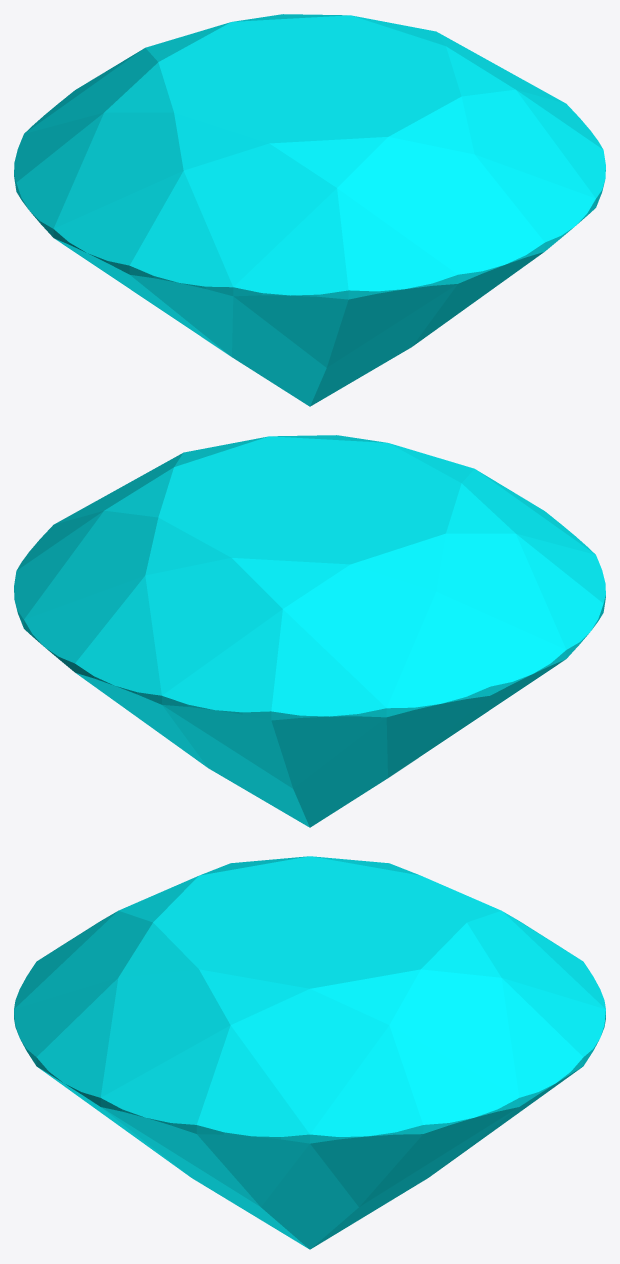
File: diamond.glb
The picture shows the model from 3 angles, top to bottom: view 1: azimuth 30°, elevation 25°; view 2: azimuth 150°, elevation 25°; view 3: azimuth 270°, elevation 25°; orthographic projection.
Parts seen in each view (by area): view 1: dobj.002; view 2: dobj.002; view 3: dobj.002.
Boxes of the visible parts, x1,y1,x2,y2 form: dobj.002: (14,14,605,406); dobj.002: (14,435,605,827); dobj.002: (14,856,605,1249).
Bounding box in the file's own units: 1.55 × 0.9471 × 1.55.
Materials: 1 (1 with a texture image).
